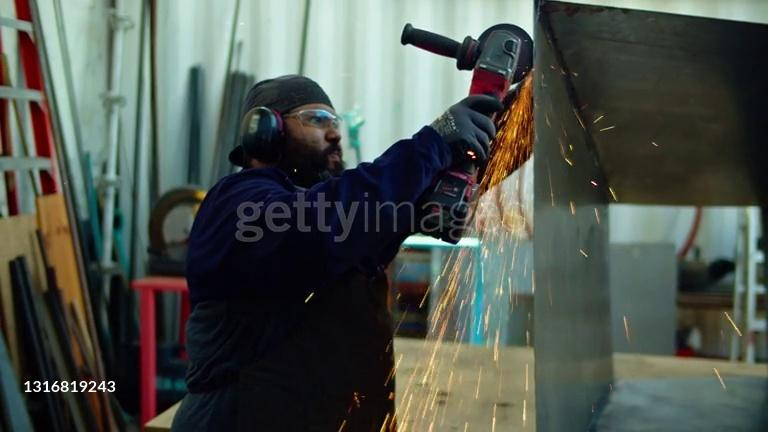person: (171, 73, 510, 432)
